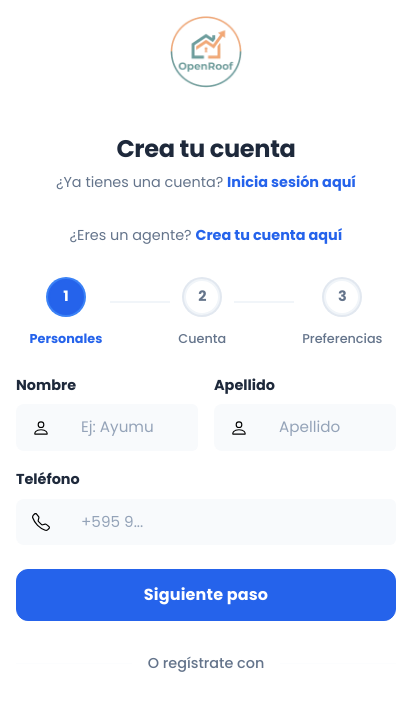
Test: User Registration Flow › debe avanzar del paso 1 al paso 2 correctamente
Note: Llenar datos paso 1
Type "Cypress" into the field named "nombre".
click(132, 428); type("Cypress")  # box x1=65 y1=404 x2=198 y2=451
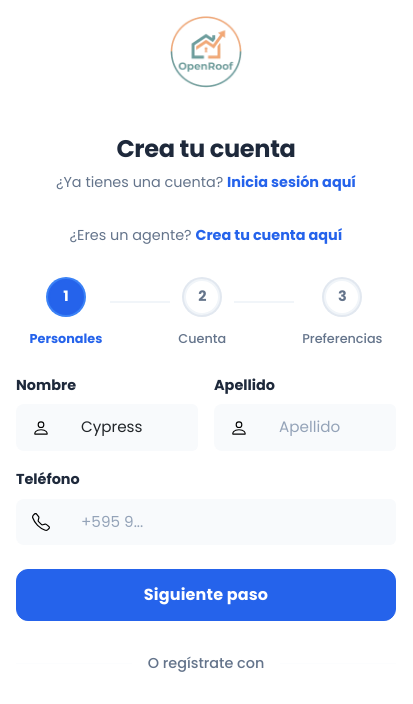
Type "Test" into the field named "apellido".
click(330, 428); type("Test")  # box x1=263 y1=404 x2=396 y2=451
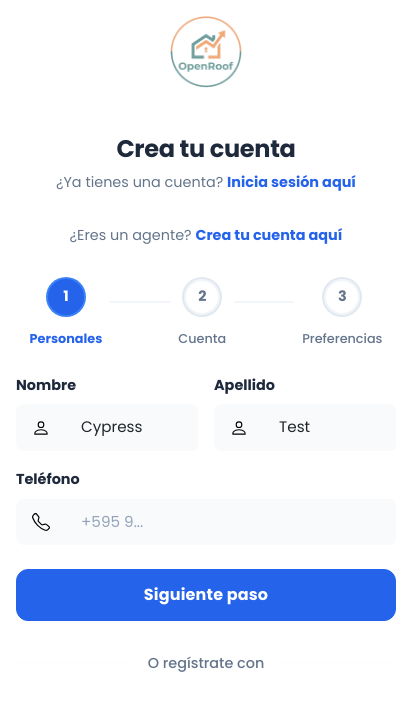
Type "+1234567890" into the field named "phone".
click(231, 523); type("+1234567890")  # box x1=65 y1=499 x2=396 y2=546
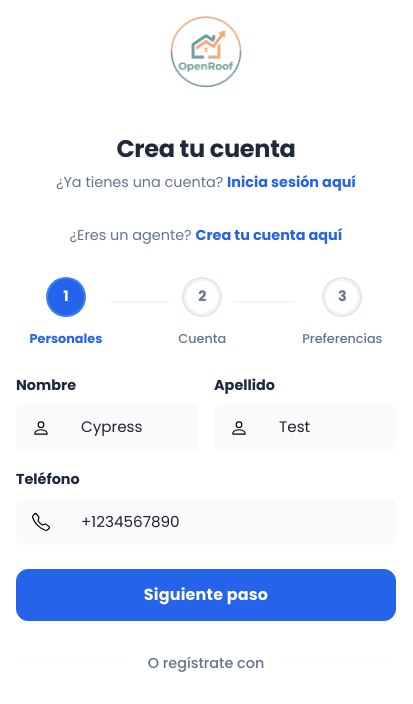
Click the button "Siguiente paso".
click(206, 595)  # box x1=16 y1=569 x2=396 y2=621
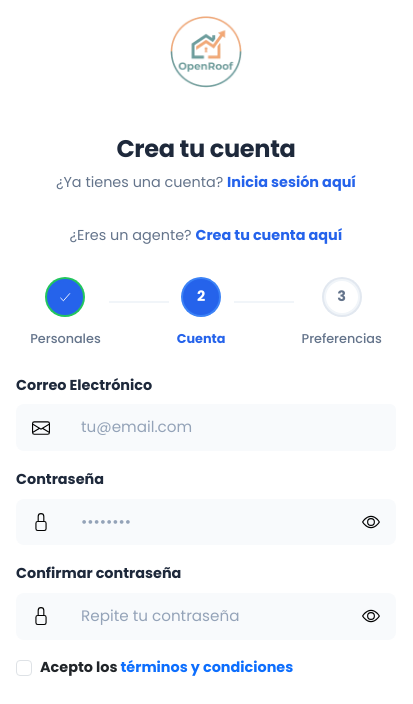
expect the field named "email" is shown: met, box x1=65 y1=404 x2=396 y2=451
expect the password field named "password" is shown: met, box x1=65 y1=499 x2=347 y2=546
expect the password field named "confirmPassword" is shown: met, box x1=65 y1=593 x2=347 y2=640
